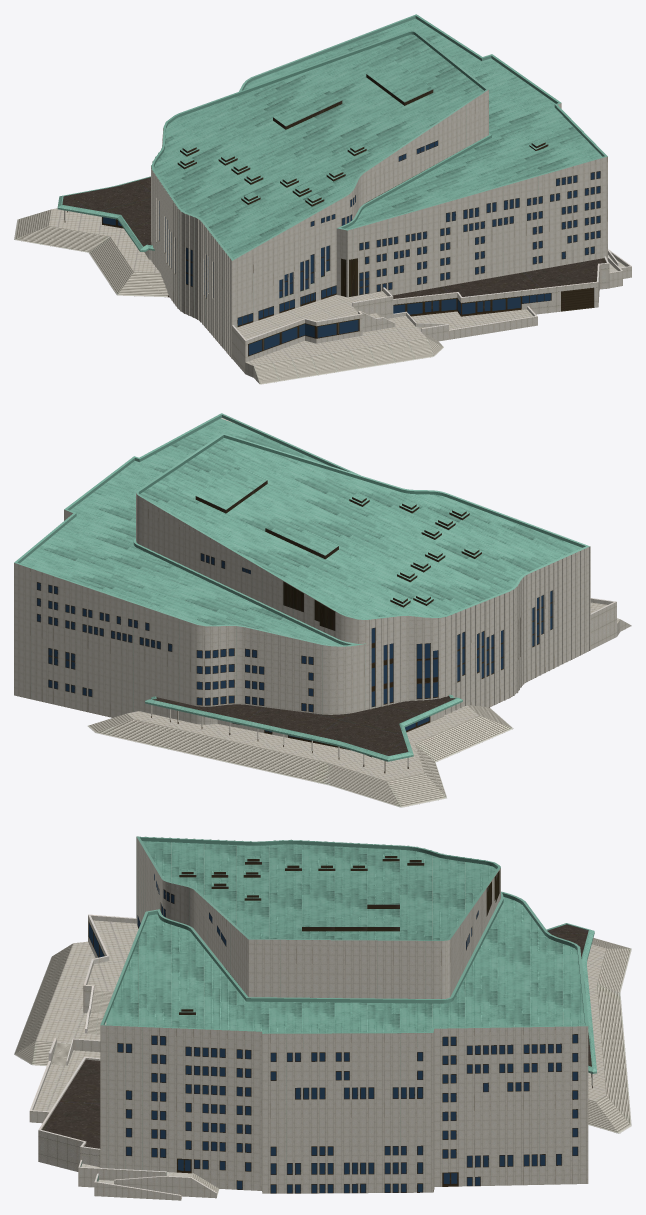
File: opera.glb
The picture shows the model from 3 angles, top to bottom: view 1: azimuth 30°, elevation 25°; view 2: azimuth 150°, elevation 25°; view 3: azimuth 270°, elevation 25°; orthographic projection. The views are drawn at different scales.
Visible parts, largest first — view 1: Dach_1, Fassade_2, Terasse 1_7, Fenster_0, Terasse 2_6, Unterbau_5, Vordach_3, Rampe_8; view 2: Dach_1, Fassade_2, Unterbau_5, Fenster_0, Vordach_3, Terasse 1_7; view 3: Fassade_2, Dach_1, Fenster_0, Terasse 1_7, Unterbau_5, Terasse 2_6, Rampe_8, Vordach_3.
Part boxes in pixels (x1,y1,x2,y2): Dach_1: (151,14,607,260); Fassade_2: (151,89,607,358); Terasse 1_7: (232,287,537,384); Fenster_0: (156,140,601,326); Terasse 2_6: (392,256,609,316); Unterbau_5: (14,208,168,297); Vordach_3: (57,176,154,259); Rampe_8: (608,249,631,288); Dach_1: (14,413,589,646); Fassade_2: (14,493,590,724); Unterbau_5: (87,705,513,807); Fenster_0: (36,553,553,712); Vordach_3: (145,695,462,761); Terasse 1_7: (590,598,631,649); Fassade_2: (100,836,588,1193); Dach_1: (100,836,588,1033); Fenster_0: (117,870,580,1193); Terasse 1_7: (14,914,138,1123); Unterbau_5: (587,938,631,1133); Terasse 2_6: (38,1056,100,1171); Rampe_8: (78,1160,219,1200); Vordach_3: (546,923,596,1073).
Bounding box in the file's own units: 94.21 × 34.22 × 92.41.
Materials: 1 (1 with a texture image).
